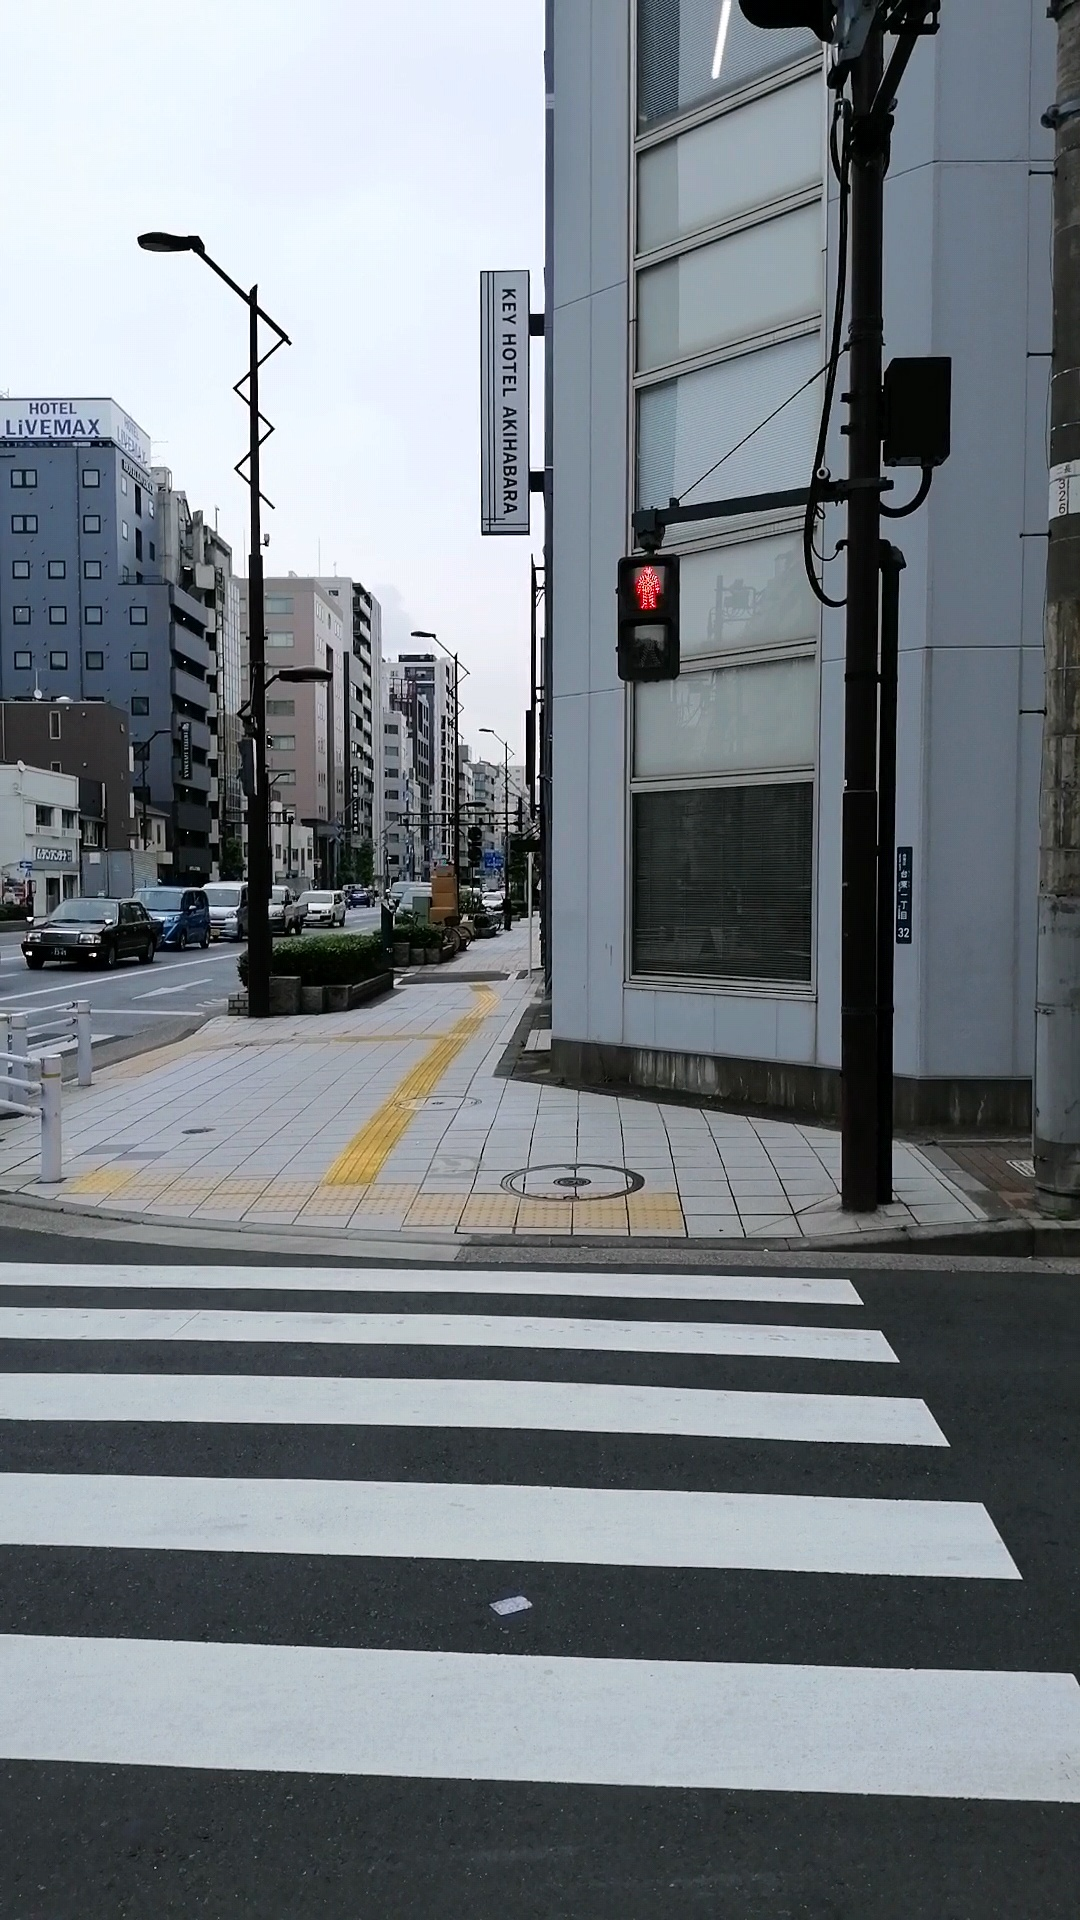red: (618, 556, 680, 680)
